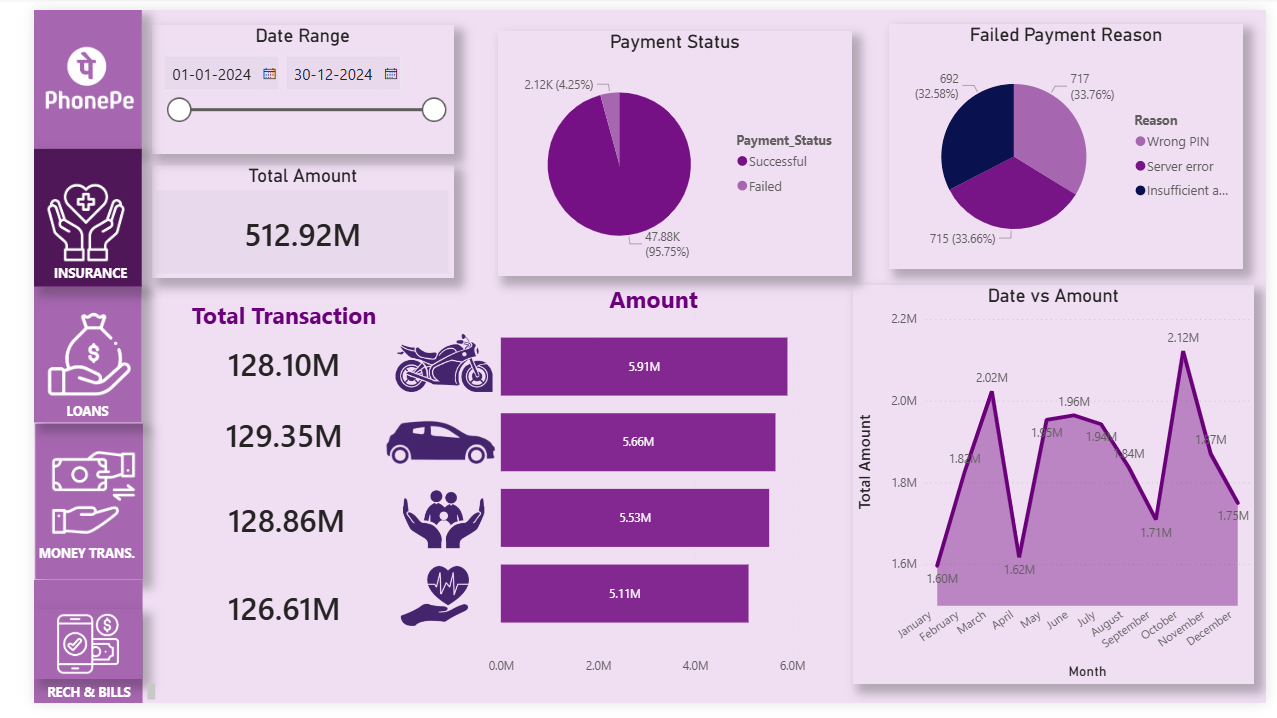

The page's visual inventory and layout, read from the dashboard file:
{"tool":"powerbi","page":{"name":"Insurance","canvas":[1280,720],"ordinal":1},"visuals":[{"type":"shape","box":[0,0,111.9,144],"z":0,"group":"g1"},{"type":"slicer","title":"Date Range","fields":{"Values":["Insurance.Date"]},"box":[122.6,15.5,314.3,133.3],"z":0},{"type":"shape","box":[0,144,112.2,143.6],"z":0,"group":"g4"},{"type":"shape","box":[0,591.7,113.1,128.6],"z":0,"group":"g3"},{"type":"cardVisual","title":"Total   Amount","fields":{"Data":["Sum(Insurance.Premium)"]},"box":[122.6,160.7,314.3,117.9],"z":1000},{"type":"shape","box":[0,285.7,111.9,142.9],"z":1000,"group":"g5"},{"type":"image","box":[0,621.2,111.9,72.7],"z":1000,"group":"g3"},{"type":"pieChart","title":"Failed Payment Reason","fields":{"Category":["Insurance.Reason"],"Y":["CountNonNull(Insurance.Reason)"]},"box":[888.1,14.3,367.9,254.8],"z":2000},{"type":"shape","box":[1.2,429.7,111.9,161.9],"z":2000,"group":"g2"},{"type":"textbox","box":[9.5,693.9,121.4,26.3],"z":2000,"group":"g3"},{"type":"areaChart","title":"Date vs Amount","fields":{"Category":["Insurance.Date.Variation.Date Hierarchy.Month"],"Y":["Sum(Insurance.Premium)"]},"box":[850,285.7,416.7,414.3],"z":3000},{"type":"group","id":"g1","title":"Group 1","box":[0,0,111.9,144],"z":4000},{"type":"image","box":[5.6,157,97.6,127.4],"z":4000,"group":"g4"},{"type":"image","box":[7.2,8.4,98.9,127.9],"z":5000,"group":"g1"},{"type":"group","id":"g2","title":"Group 4","box":[0,144,122.6,447.6],"z":5000},{"type":"image","box":[10.7,293.8,97.6,126.2],"z":5000,"group":"g5"},{"type":"actionButton","box":[1.2,144,113.1,145.2],"z":6000},{"type":"image","box":[13.1,438,97.6,127.4],"z":6000,"group":"g2"},{"type":"actionButton","box":[0,141.7,113.1,145.2],"z":7000},{"type":"textbox","box":[5,259.4,107,28],"z":8000,"group":"g4"},{"type":"actionButton","box":[2.4,434.5,113.1,141.7],"z":8000},{"type":"textbox","box":[2.4,402,106,32.1],"z":9000,"group":"g5"},{"type":"actionButton","box":[0,591.7,113.1,128.6],"z":9000},{"type":"actionButton","box":[0,0,113.1,144],"z":10000},{"type":"textbox","box":[0,551.1,122.6,27.4],"z":10000,"group":"g2"},{"type":"pieChart","title":"Payment Status","fields":{"Category":["Insurance.Payment_Status"],"Y":["CountNonNull(Insurance.Payment_Status)"]},"box":[482.1,21.4,367.9,254.8],"z":11000},{"type":"group","id":"g3","title":"Group 5","box":[0,591.7,131,128.6],"z":12000},{"type":"clusteredBarChart","title":"Date vs Amount","fields":{"Category":["Insurance.Insurance_Type"],"Y":["Sum(Insurance.Premium)"]},"box":[466.7,296.4,372.6,403.6],"z":13000},{"type":"image","box":[373.8,329.8,103.6,73.8],"z":14000},{"type":"image","box":[356,403.6,136.9,88.1],"z":15000},{"type":"image","box":[361.9,497.6,126.2,63.1],"z":16000},{"type":"image","box":[336.9,576.2,159.5,64.3],"z":17000},{"type":"textbox","box":[102.4,296.4,314.3,51.2],"z":18000},{"type":"cardVisual","title":"Total   Amount","fields":{"Data":["Sum(Insurance.Premium)"]},"box":[148.8,322.6,221.4,88.1],"z":19000},{"type":"cardVisual","title":"Total   Amount","fields":{"Data":["Sum(Insurance.Premium)"]},"box":[148.8,575,221.4,88.1],"z":20000},{"type":"group","id":"g4","title":"Group 2","box":[0,144,111.9,144],"z":20001,"group":"g5"},{"type":"group","id":"g5","title":"Group 3","box":[0,144,111.9,290.1],"z":20002,"group":"g2"},{"type":"cardVisual","title":"Total   Amount","fields":{"Data":["Sum(Insurance.Premium)"]},"box":[152.4,484.5,221.4,88.1],"z":21000},{"type":"cardVisual","title":"Total   Amount","fields":{"Data":["Sum(Insurance.Premium)"]},"box":[148.8,396.4,221.4,88.1],"z":22000},{"type":"textbox","box":[483.3,278.6,314.3,51.2],"z":23000}]}

Visuals, with their boxes in screenshot pixels (x1, y1, x2, y2), scaled from the page's 1280x720 canvas onto the 1277x718 screenshot:
shape: 0/0/112/144
"Date Range" slicer: 122/15/436/148
shape: 0/144/112/287
shape: 0/590/113/717
"Total   Amount" cardVisual: 122/160/436/278
shape: 0/285/112/427
image: 0/619/112/692
"Failed Payment Reason" pieChart: 886/14/1253/268
shape: 1/429/113/590
textbox: 9/692/131/717
"Date vs Amount" areaChart: 848/285/1264/698
"Group 1" group: 0/0/112/144
image: 6/157/103/284
image: 7/8/106/136
"Group 4" group: 0/144/122/590
image: 11/293/108/419
actionButton: 1/144/114/288
image: 13/437/110/564
actionButton: 0/141/113/286
textbox: 5/259/112/287
actionButton: 2/433/115/575
textbox: 2/401/108/433
actionButton: 0/590/113/717
actionButton: 0/0/113/144
textbox: 0/550/122/577
"Payment Status" pieChart: 481/21/848/275
"Group 5" group: 0/590/131/717
"Date vs Amount" clusteredBarChart: 466/296/837/698
image: 373/329/476/402
image: 355/402/492/490
image: 361/496/487/559
image: 336/575/495/639
textbox: 102/296/416/347
"Total   Amount" cardVisual: 148/322/369/410
"Total   Amount" cardVisual: 148/573/369/661
"Group 2" group: 0/144/112/287
"Group 3" group: 0/144/112/433
"Total   Amount" cardVisual: 152/483/373/571
"Total   Amount" cardVisual: 148/395/369/483
textbox: 482/278/796/329
